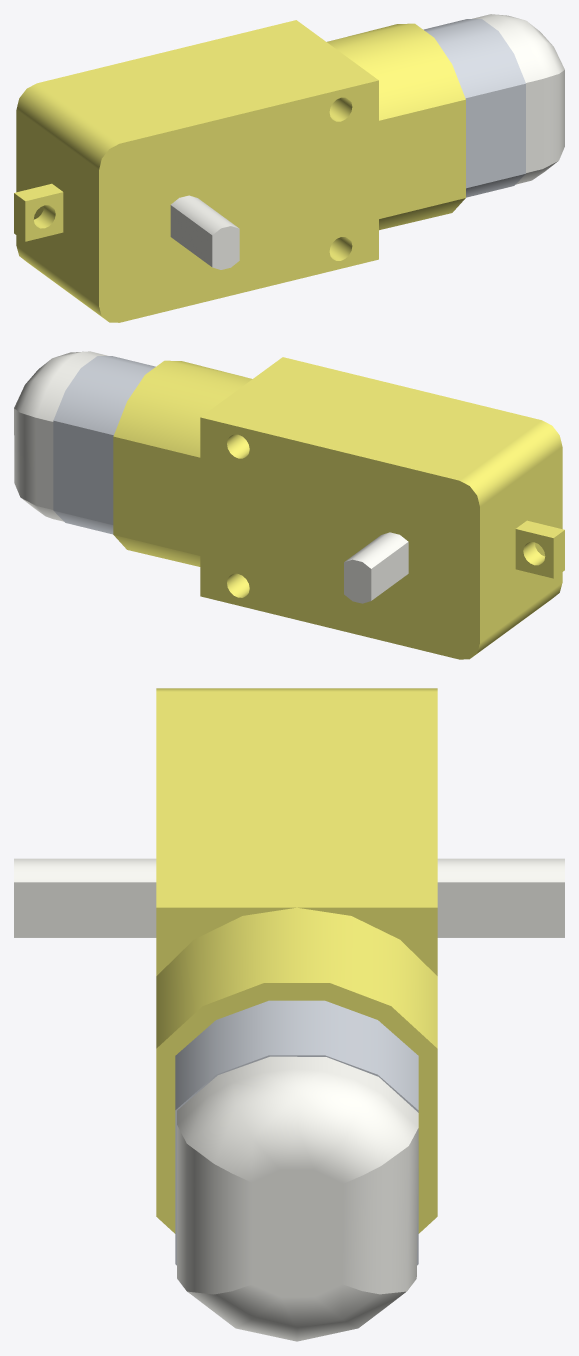
Rendered from drive_motor.glb.
The picture shows the model from 3 angles, top to bottom: view 1: azimuth 30°, elevation 25°; view 2: azimuth 150°, elevation 25°; view 3: azimuth 270°, elevation 25°; orthographic projection. The views are drawn at different scales.
Parts seen in each view (by area): view 1: Node1; view 2: Node1; view 3: Node1.
Boxes of the visible parts, x1,y1,x2,y2 form: Node1: (14, 14, 564, 322); Node1: (14, 351, 564, 659); Node1: (14, 688, 564, 1341).
Size of the model in its own units: 69.17 by 22.5 by 36.8.
